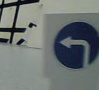left: (55, 22, 99, 69)
